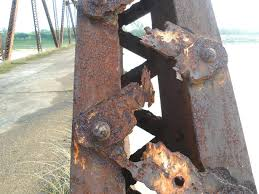rust: (164, 2, 256, 194), (68, 2, 139, 190), (104, 72, 168, 122), (123, 142, 182, 185), (131, 21, 184, 59)
